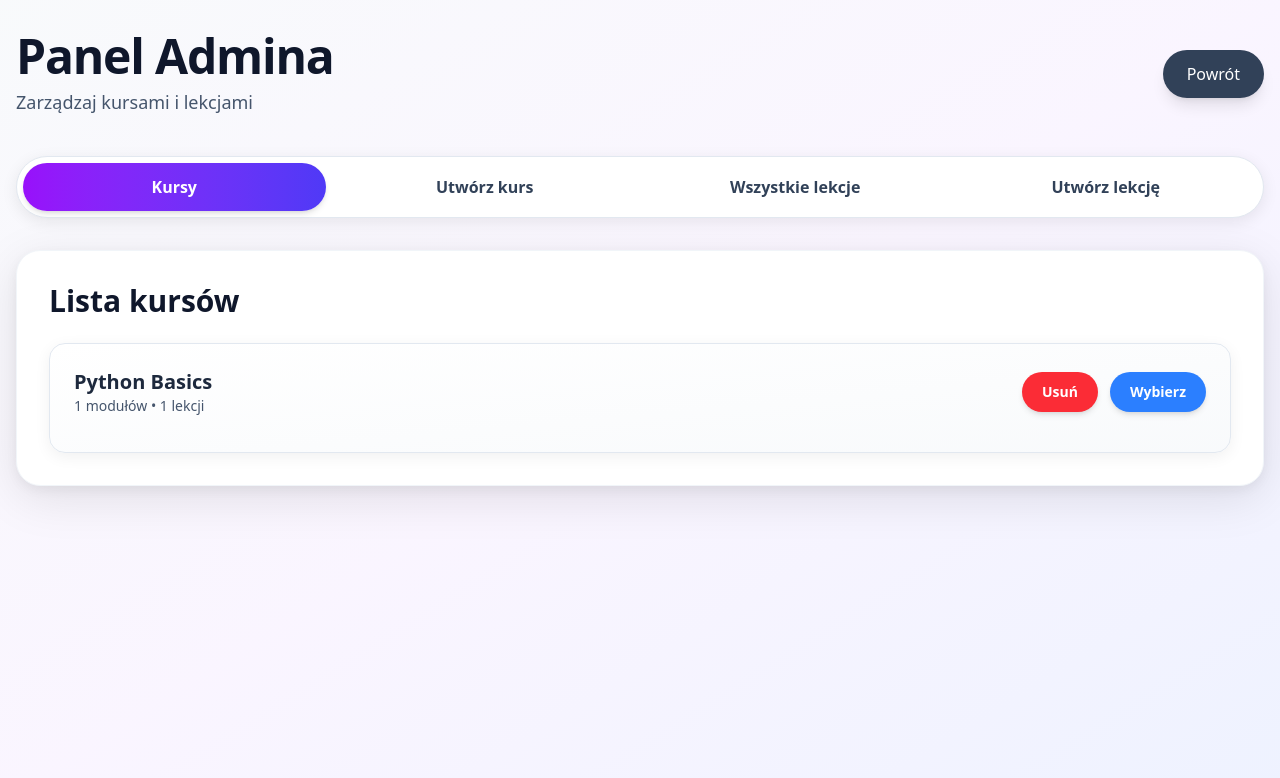
Scenario: AdminPanel › Lesson Management › shows lesson form with selected module info
Check: the heading "Python Basics" is shown, box [74,368,212,396]
Click the button "Wybierz". click: (1158,392)
box: [1110,372,1206,412]
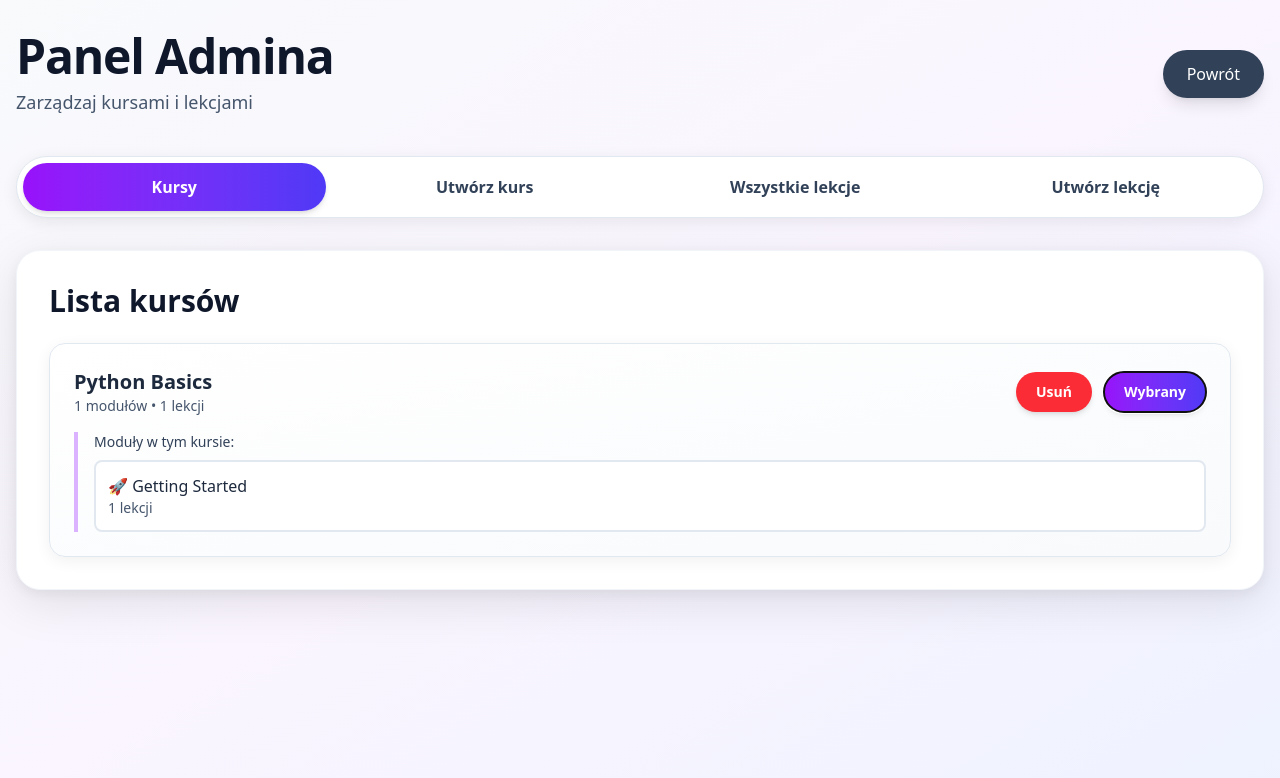
Click the text "🚀 Getting Started". click: (178,486)
box: [108,474,247,498]
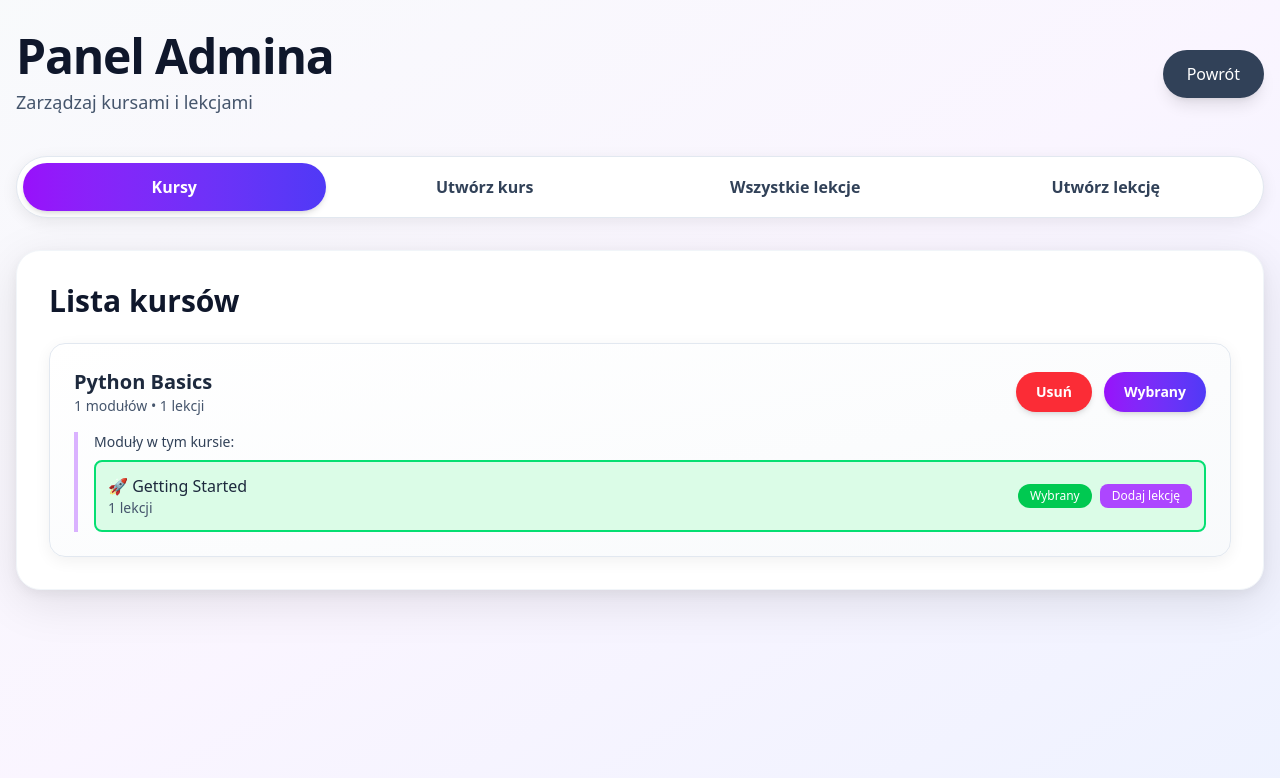
Click the button "Utwórz lekcję". click: (1106,187)
box: [954,163,1257,211]
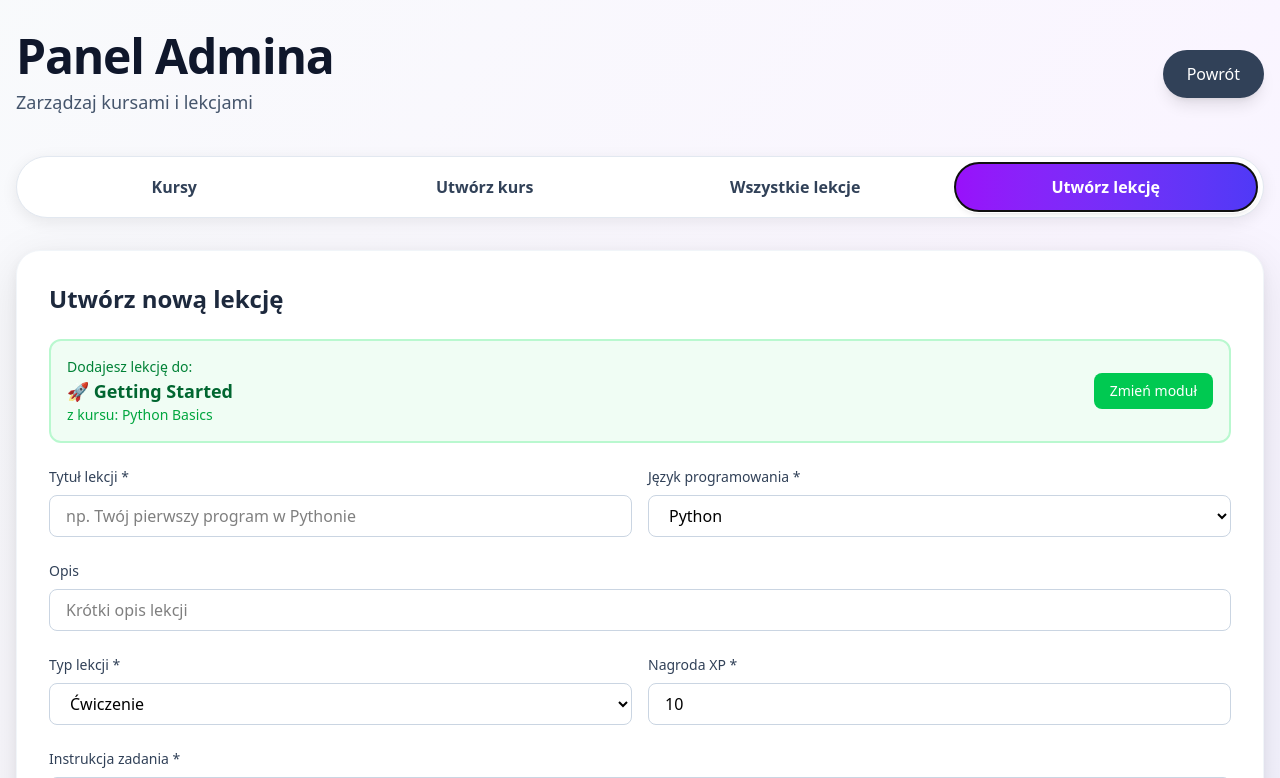
Check: the text "🚀 Getting Started" is shown, box [67,377,233,405]
Check: the text "Dodajesz lekcję do:" is shown, box [67,357,192,376]
